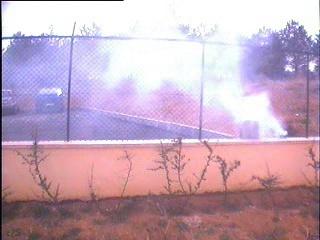smoke: (109, 18, 287, 138)
